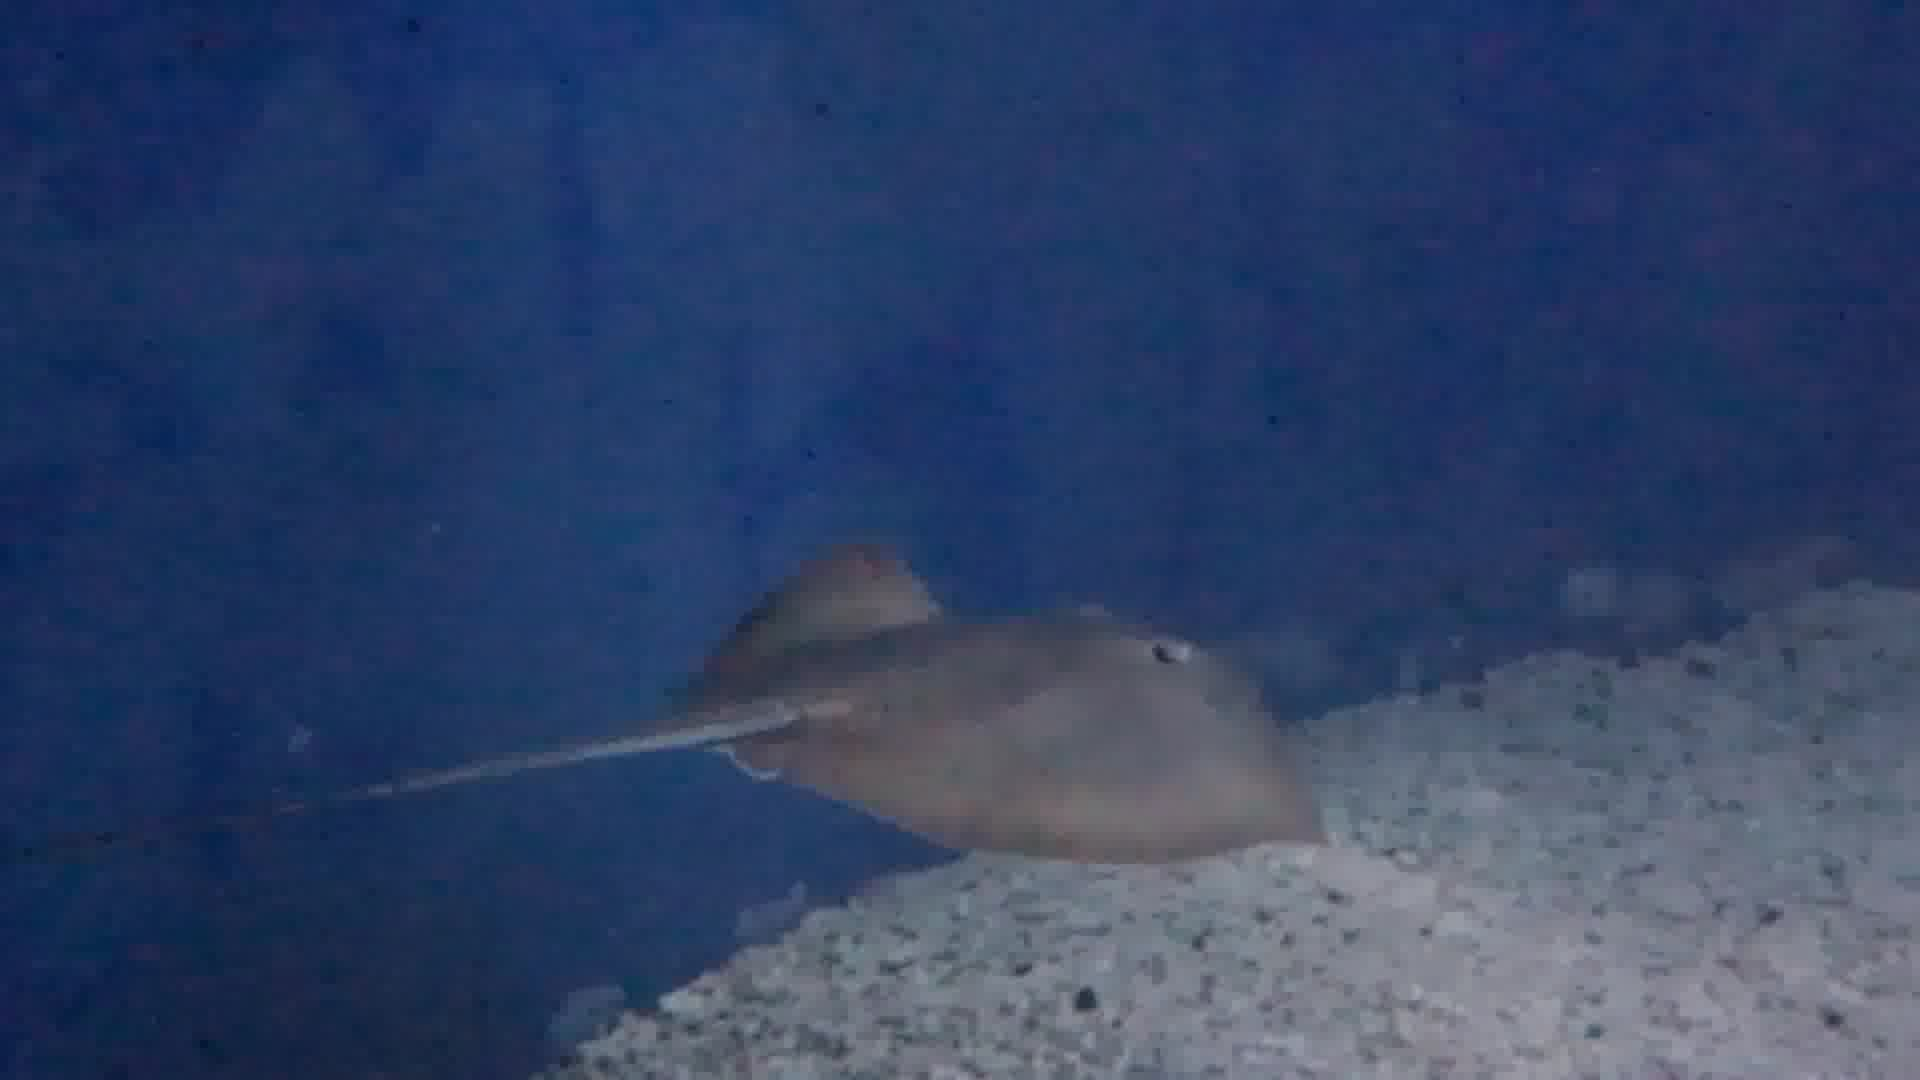Himantura gerrardi: (22, 531, 1385, 889)
